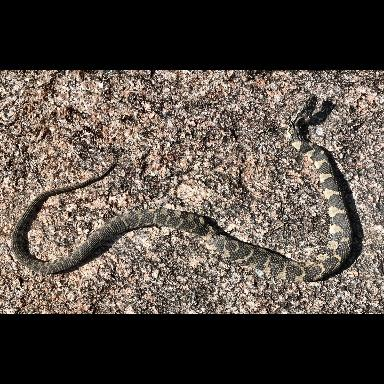snake: (7, 82, 367, 292)
